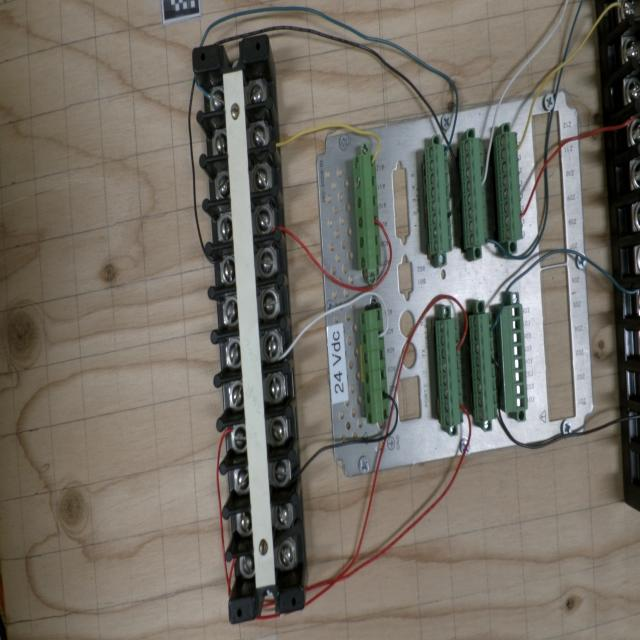Flathead_Block: (192, 35, 305, 623)
Terminal_1: (359, 308, 390, 425), (352, 154, 382, 270)
Terminal_2: (469, 312, 498, 423), (425, 143, 453, 256), (435, 318, 464, 427), (460, 137, 488, 248), (496, 132, 523, 243)
